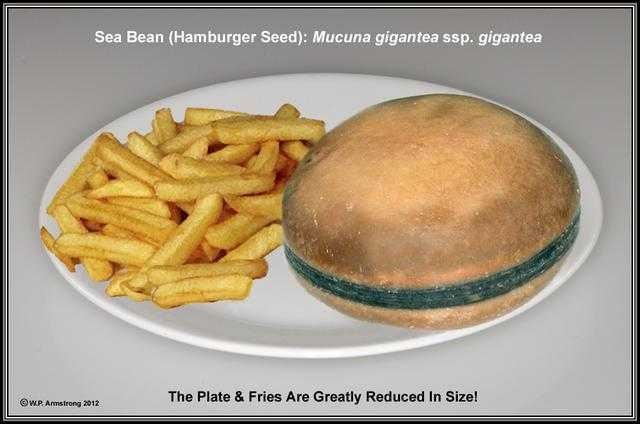hamburger: (292, 87, 590, 326)
